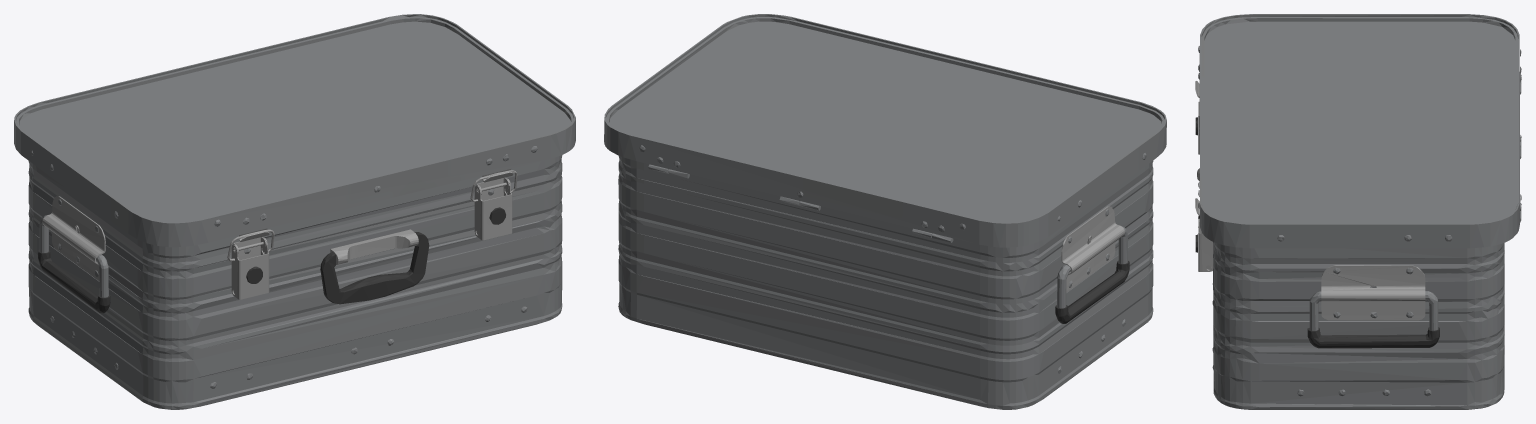
File: SM_Case_A01_Glossy_B_01.glb
The picture shows the model from 3 angles, left to right: view 1: azimuth 30°, elevation 25°; view 2: azimuth 150°, elevation 25°; view 3: azimuth 270°, elevation 25°; orthographic projection.
Visible parts, largest first — view 1: Metal_Glossy_B_0, Metal_Glossy_A_0, Plastic_Glossy_Black_A_0; view 2: Metal_Glossy_B_0, Metal_Glossy_A_0, Plastic_Glossy_Black_A_0; view 3: Metal_Glossy_B_0, Metal_Glossy_A_0, Plastic_Glossy_Black_A_0.
Part boxes in pixels (left/top/right/bottom): Metal_Glossy_B_0: left=14, top=14, right=575, bottom=409; Metal_Glossy_A_0: left=42, top=169, right=517, bottom=299; Plastic_Glossy_Black_A_0: left=38, top=207, right=505, bottom=313; Metal_Glossy_B_0: left=604, top=14, right=1166, bottom=409; Metal_Glossy_A_0: left=1061, top=206, right=1124, bottom=292; Plastic_Glossy_Black_A_0: left=1055, top=260, right=1129, bottom=323; Metal_Glossy_B_0: left=1198, top=14, right=1521, bottom=409; Metal_Glossy_A_0: left=1195, top=81, right=1425, bottom=320; Plastic_Glossy_Black_A_0: left=1195, top=117, right=1439, bottom=348.
Size of the model in its own units: 0.5462 by 0.2291 by 0.3552.
Materials: 3 (2 with a texture image).
